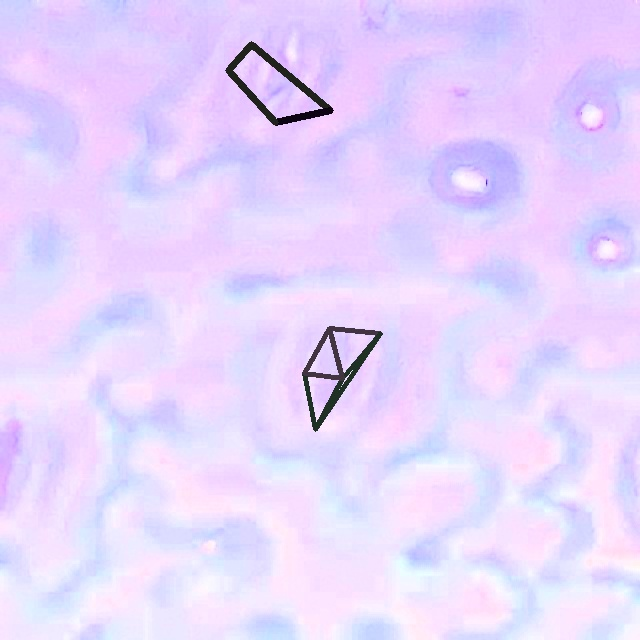close: (225, 41, 332, 124), (302, 326, 382, 431)
